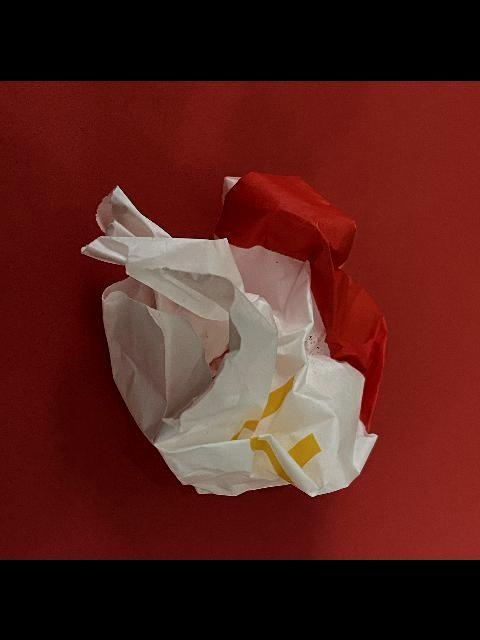paperbag: (77, 168, 390, 498)
